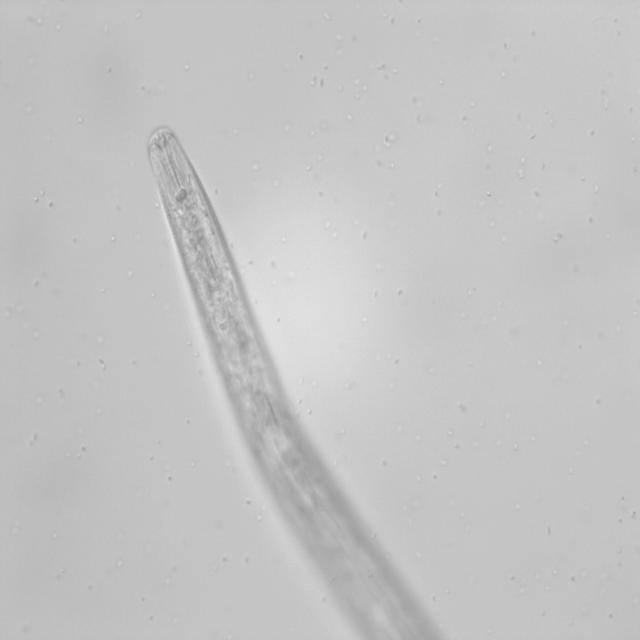Radopholus: (133, 120, 327, 465)
